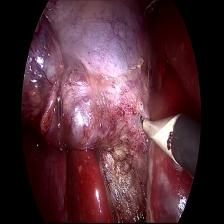Hook: (137, 96, 183, 168)
